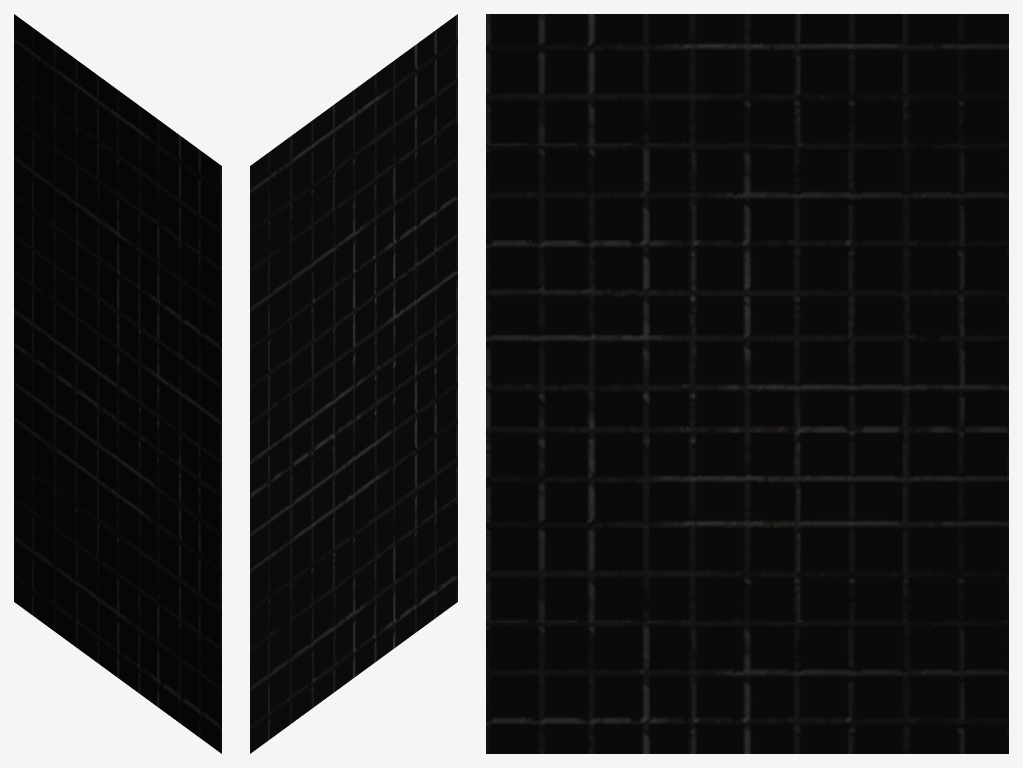
The picture shows the model from 3 angles, left to right: view 1: azimuth 30°, elevation 25°; view 2: azimuth 150°, elevation 25°; view 3: azimuth 270°, elevation 25°; orthographic projection. The views are drawn at different scales.
Parts seen in each view (by area): view 1: Grid, Cut; view 2: Grid, Cut; view 3: Grid, Cut.
Boxes of the visible parts, left/top/right/bottom form: Grid: left=14, top=14, right=221, bottom=753; Cut: left=41, top=212, right=172, bottom=553; Grid: left=250, top=14, right=457, bottom=753; Cut: left=277, top=253, right=409, bottom=558; Grid: left=486, top=14, right=1008, bottom=753; Cut: left=608, top=218, right=939, bottom=555.
Size of the model in its own units: 4.91e-06 by 65.07 by 41.67.
